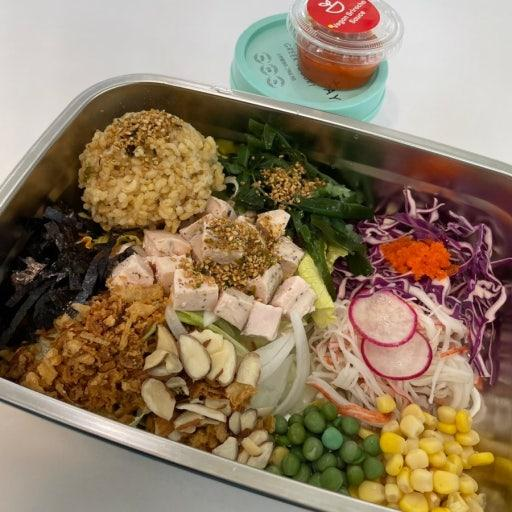Lunch Box: (0, 74, 511, 511)
cup: (230, 14, 387, 120), (287, 0, 403, 89)
